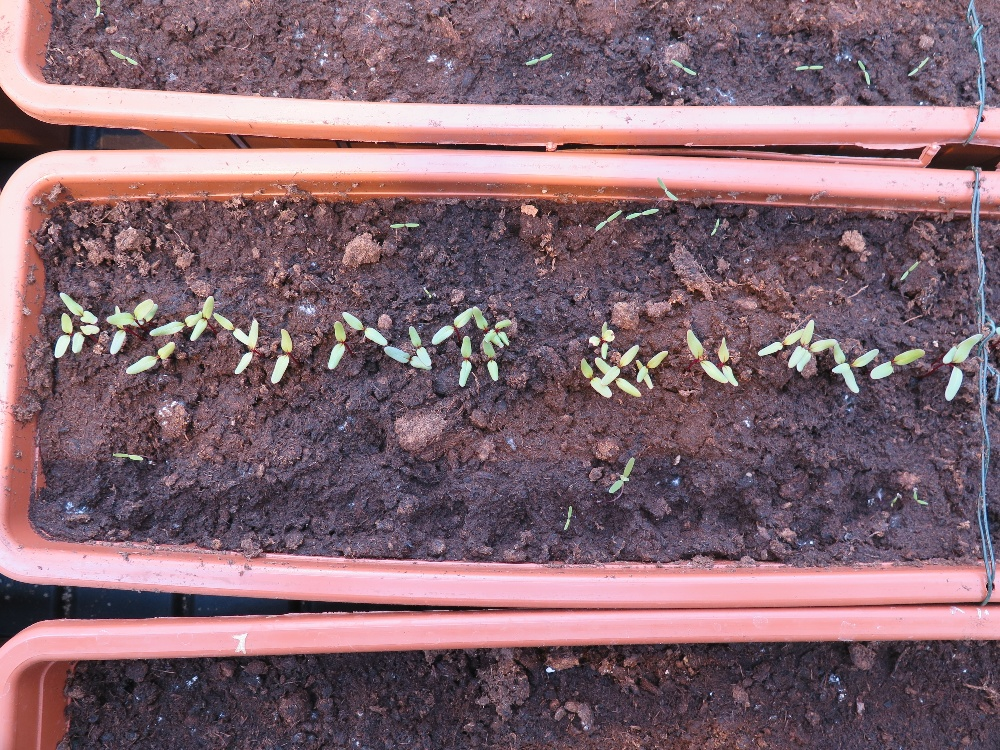crop: (944, 331, 982, 404), (684, 327, 727, 386), (596, 355, 643, 400), (869, 347, 928, 380), (124, 339, 176, 376), (341, 308, 389, 348), (831, 334, 860, 395), (105, 295, 157, 329), (603, 342, 644, 384), (430, 307, 473, 345), (233, 312, 259, 374), (148, 309, 205, 337), (470, 304, 504, 349), (787, 317, 817, 368), (269, 326, 293, 386), (756, 327, 805, 356), (60, 288, 96, 326), (795, 337, 833, 373), (212, 309, 251, 344), (580, 355, 611, 399), (830, 347, 880, 374), (635, 347, 672, 383), (386, 342, 433, 370), (326, 320, 350, 371), (190, 294, 213, 343), (407, 323, 432, 368), (52, 312, 75, 359), (718, 335, 738, 386), (71, 321, 99, 356), (481, 336, 500, 382), (457, 335, 472, 388), (586, 327, 619, 350), (633, 359, 656, 392), (598, 319, 609, 358)
weed: (608, 456, 635, 494), (594, 208, 622, 233), (655, 175, 680, 203), (108, 48, 138, 66), (669, 57, 697, 76), (623, 206, 660, 220), (907, 56, 930, 77), (523, 51, 553, 66), (899, 259, 919, 281), (856, 59, 871, 87), (112, 451, 144, 462), (912, 488, 929, 506), (387, 222, 421, 230), (794, 63, 824, 72), (563, 503, 572, 532), (710, 216, 720, 236)
